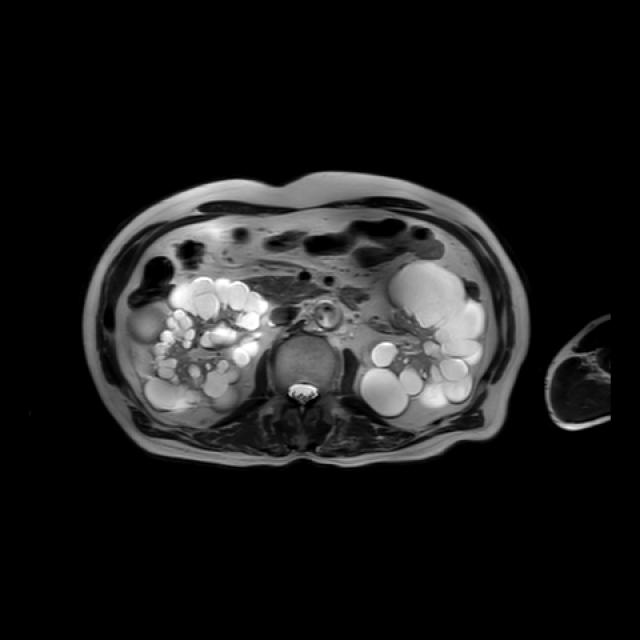sag: (129, 278, 270, 412)
sol: (361, 261, 489, 416)
